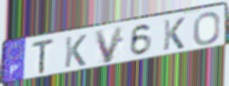6: (128, 22, 153, 57)
K: (162, 16, 187, 52), (64, 33, 88, 69)
O: (192, 11, 222, 46)
T: (30, 37, 56, 77)
V: (93, 24, 126, 65)
